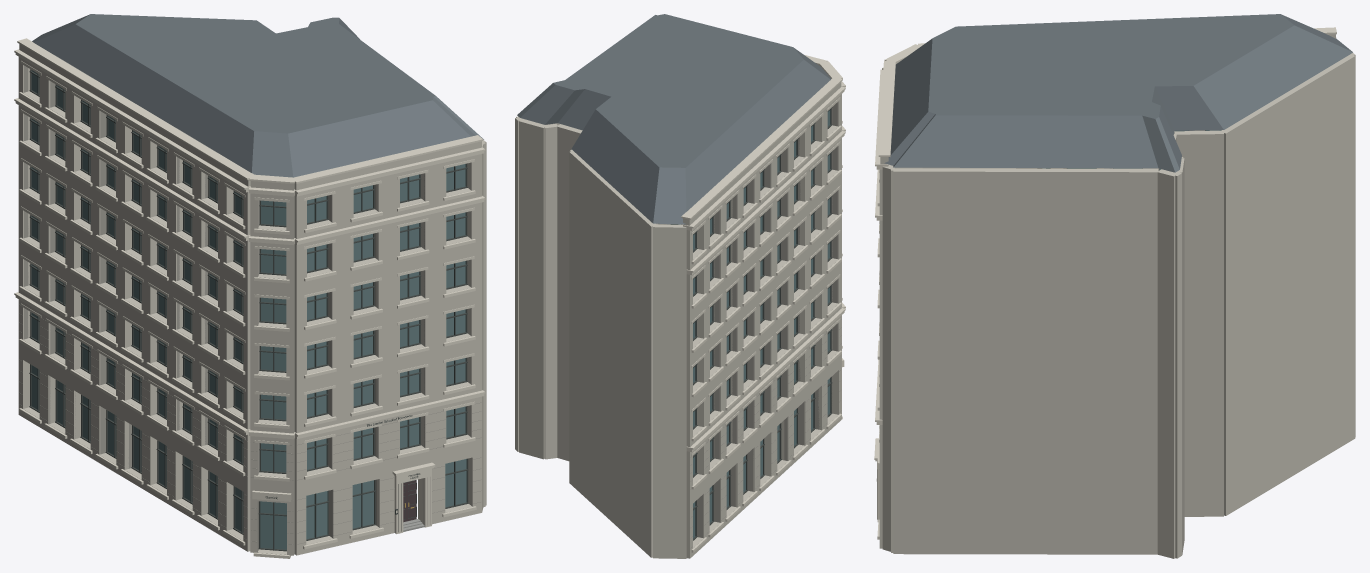
File: col-exterior-f48d7288d7ce.glb
3 views of the same model, side by side, from view 1: azimuth 30°, elevation 25°; view 2: azimuth 150°, elevation 25°; view 3: azimuth 270°, elevation 25° (orthographic). The views are drawn at different scales.
Visible parts, largest first — view 1: COL.001; view 2: COL.001; view 3: COL.001.
Boxes of the visible parts, bbox=[...] form: COL.001: bbox=[14, 14, 486, 558]; COL.001: bbox=[515, 14, 845, 558]; COL.001: bbox=[874, 14, 1355, 558].
Bounding box in the file's own units: 20.48 × 29.2 × 29.87.
